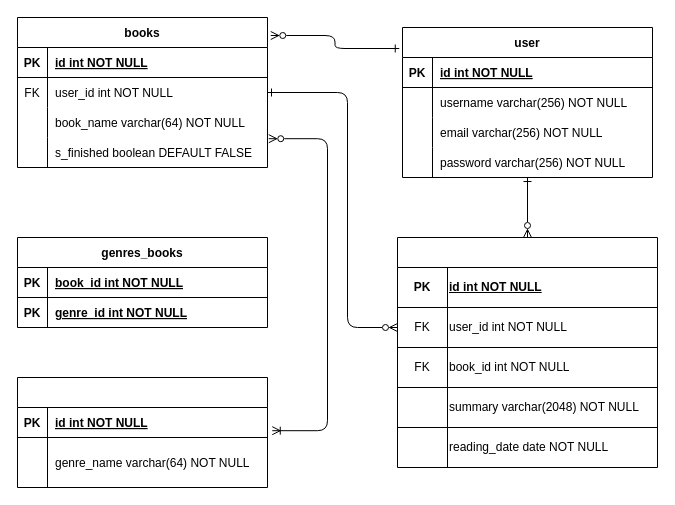
This 675x505 diagram has some shape labels left out. Each missing label, with the box of its shape:
genres: (16, 376, 268, 488)
summaries: (396, 236, 658, 468)
